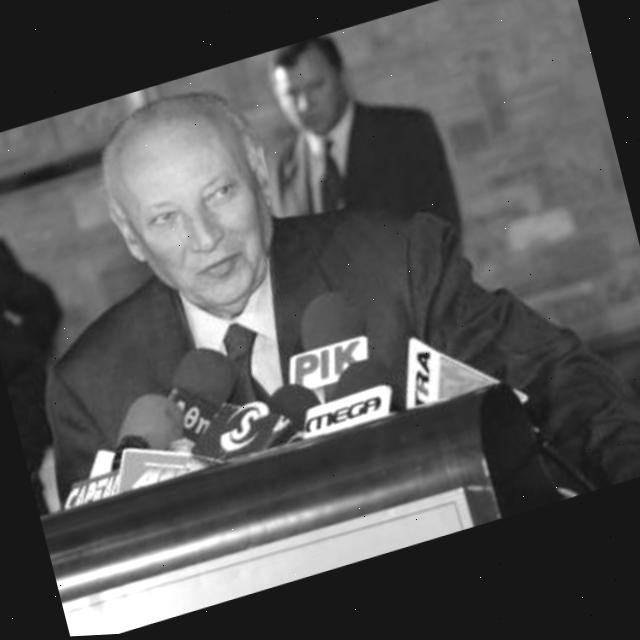face: (97, 87, 293, 328)
